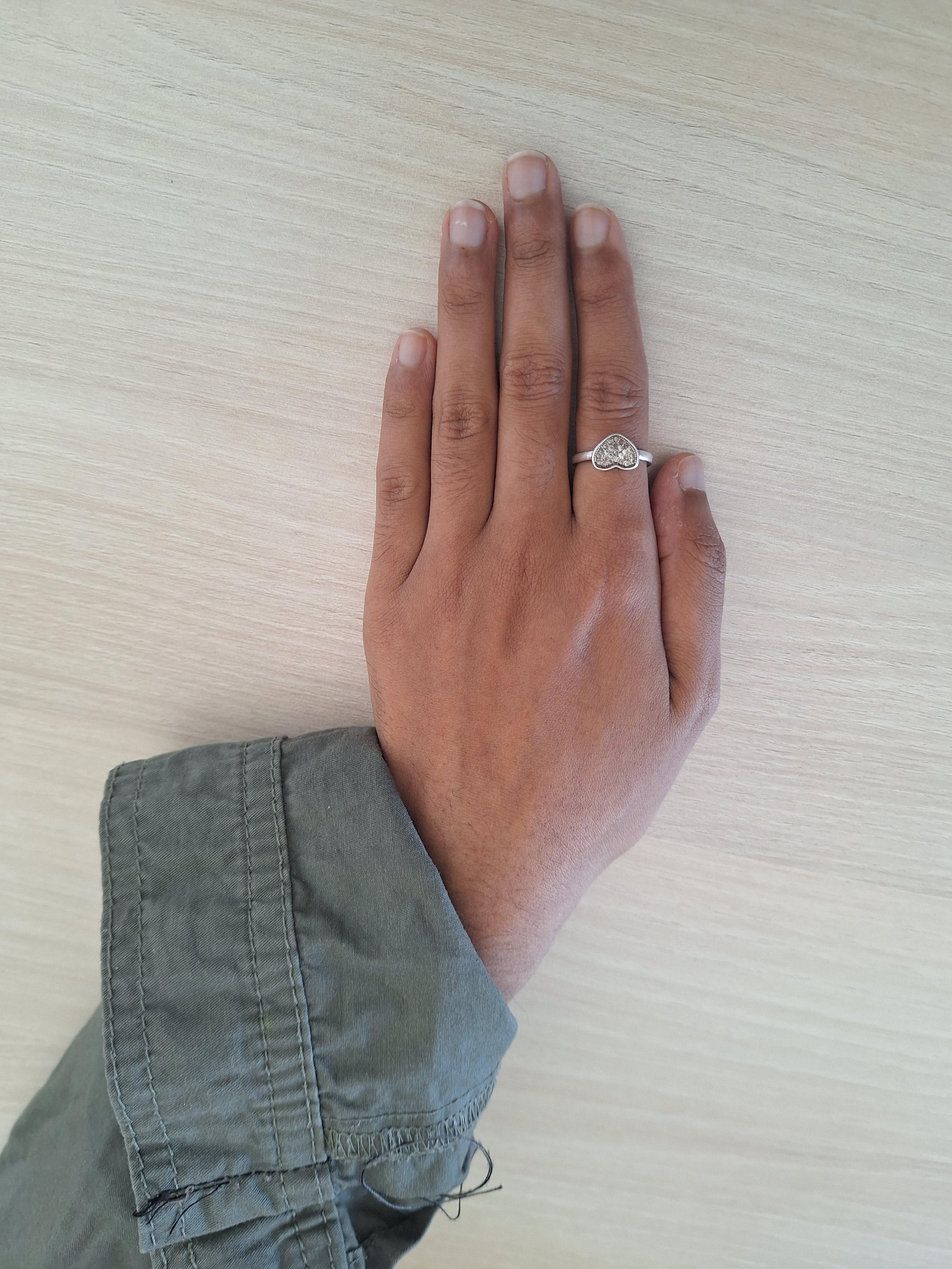Fingernail: (507, 150, 548, 201), (449, 199, 487, 248), (572, 203, 610, 248), (399, 330, 426, 370), (678, 455, 706, 491)
